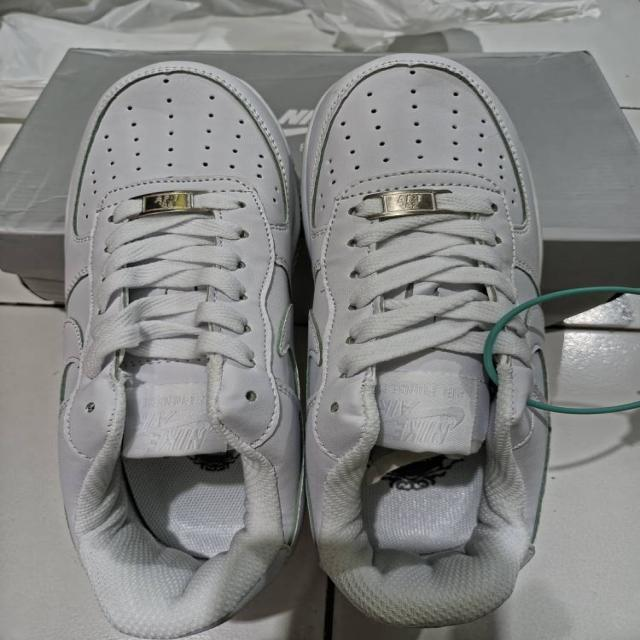nike fake air force: (42, 56, 308, 634), (298, 50, 560, 628)
